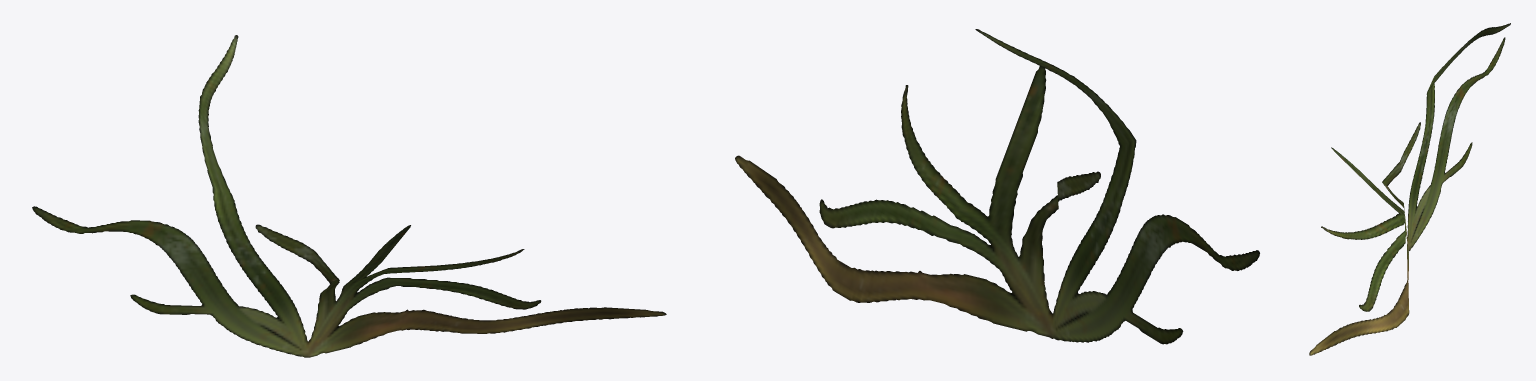
File: Bermuda_Small_B.fbx
3 views of the same model, side by side, from view 1: azimuth 30°, elevation 25°; view 2: azimuth 150°, elevation 25°; view 3: azimuth 270°, elevation 25° (orthographic). The views are drawn at different scales.
Visible parts, largest first — view 1: Bermuda_Small_B; view 2: Bermuda_Small_B; view 3: Bermuda_Small_B.
Part boxes in pixels (<box>): Bermuda_Small_B: <box>32,35,666,357</box>; Bermuda_Small_B: <box>735,29,1259,344</box>; Bermuda_Small_B: <box>1309,23,1510,355</box>.
Bounding box in the file's own units: 0.2164 × 0.12 × 0.0943.
1 material, 1 textured.
